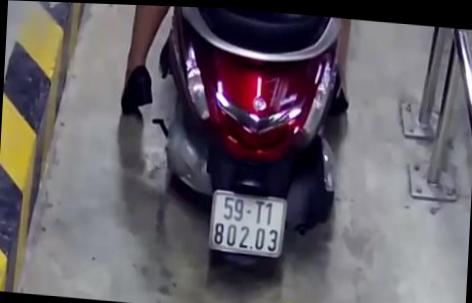LP: (207, 184, 288, 261)
